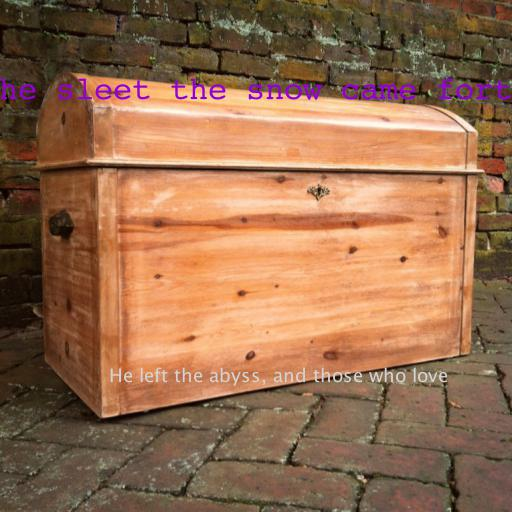Courier: (0, 78, 512, 100)
Lucida Grande: (108, 367, 448, 386)
